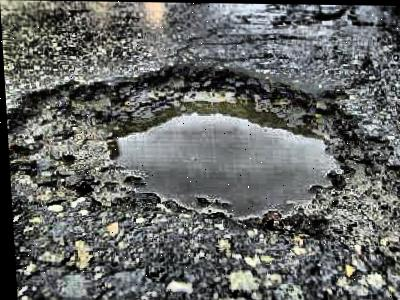pothole: (3, 56, 387, 230)
